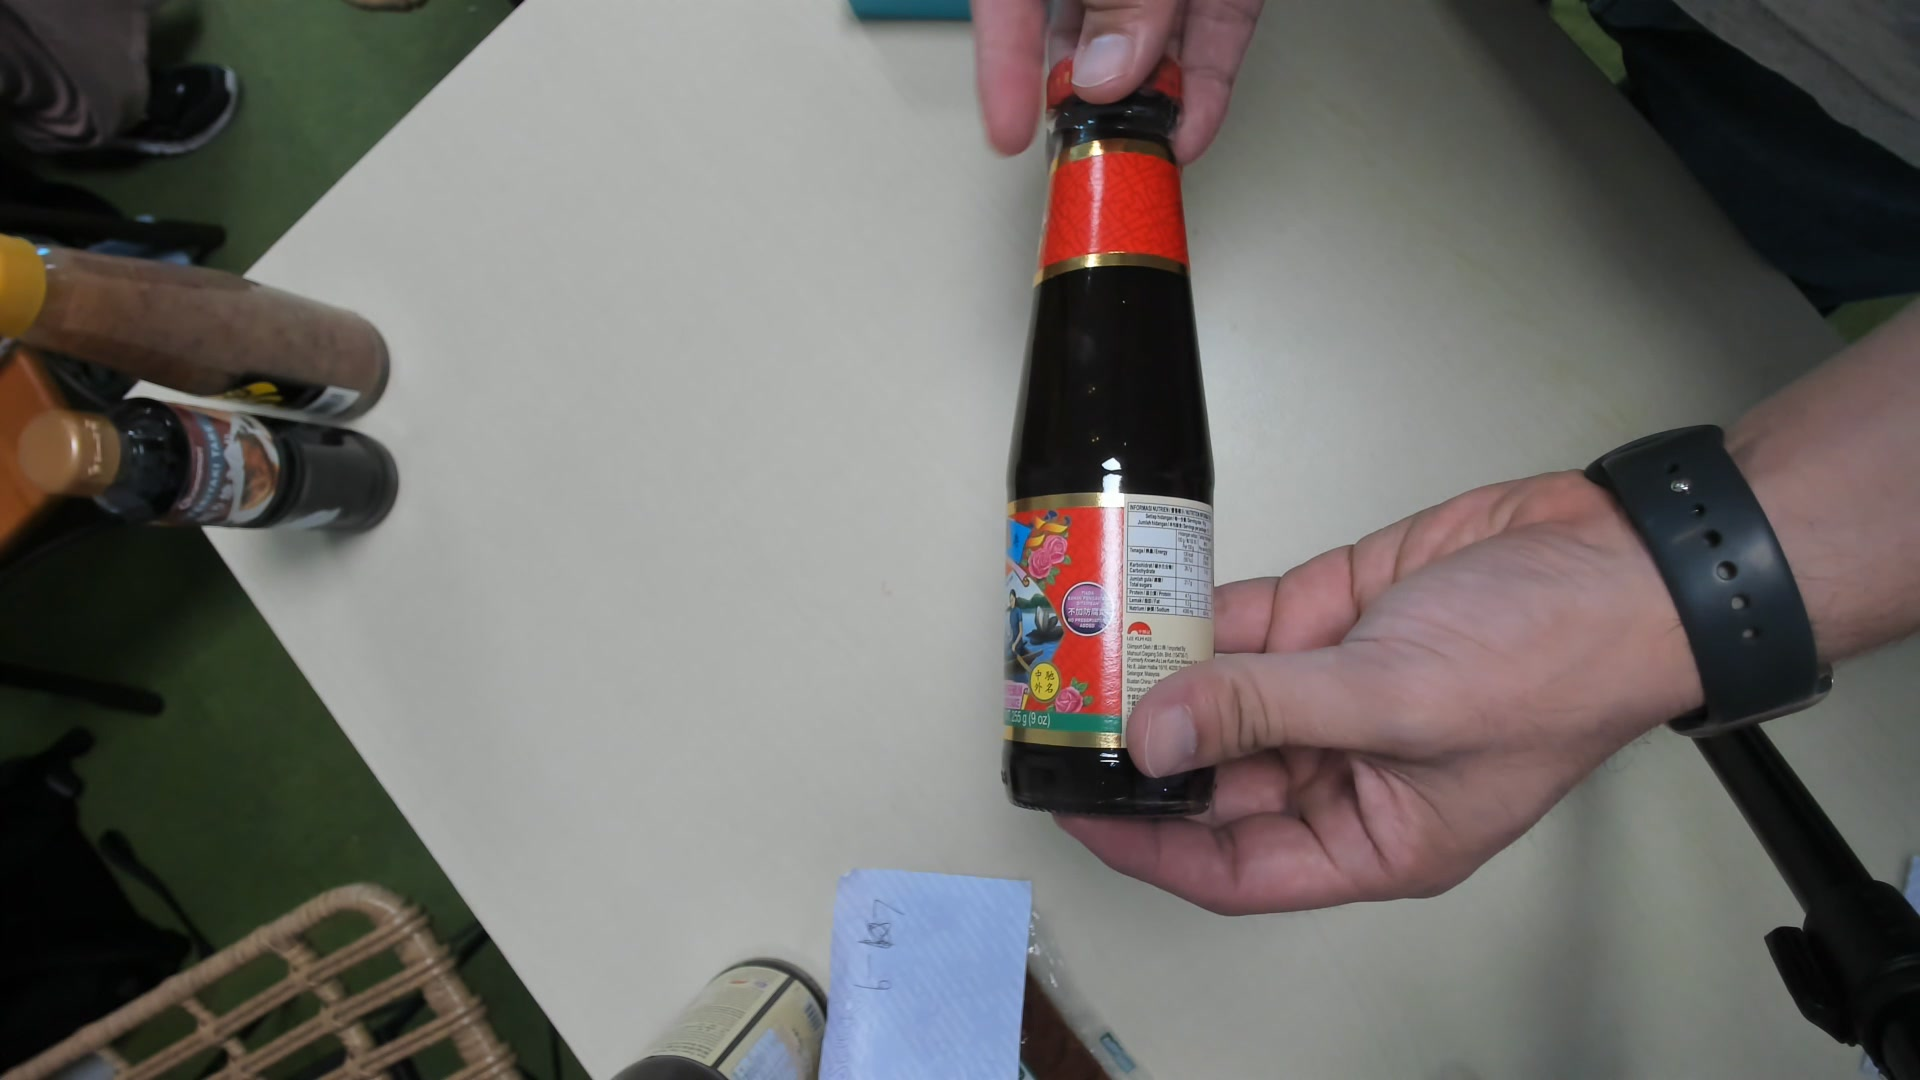OtherSauceDressingSoupbasePaste_200-299g_Halal_NonHealthy: (994, 58, 1213, 806)
